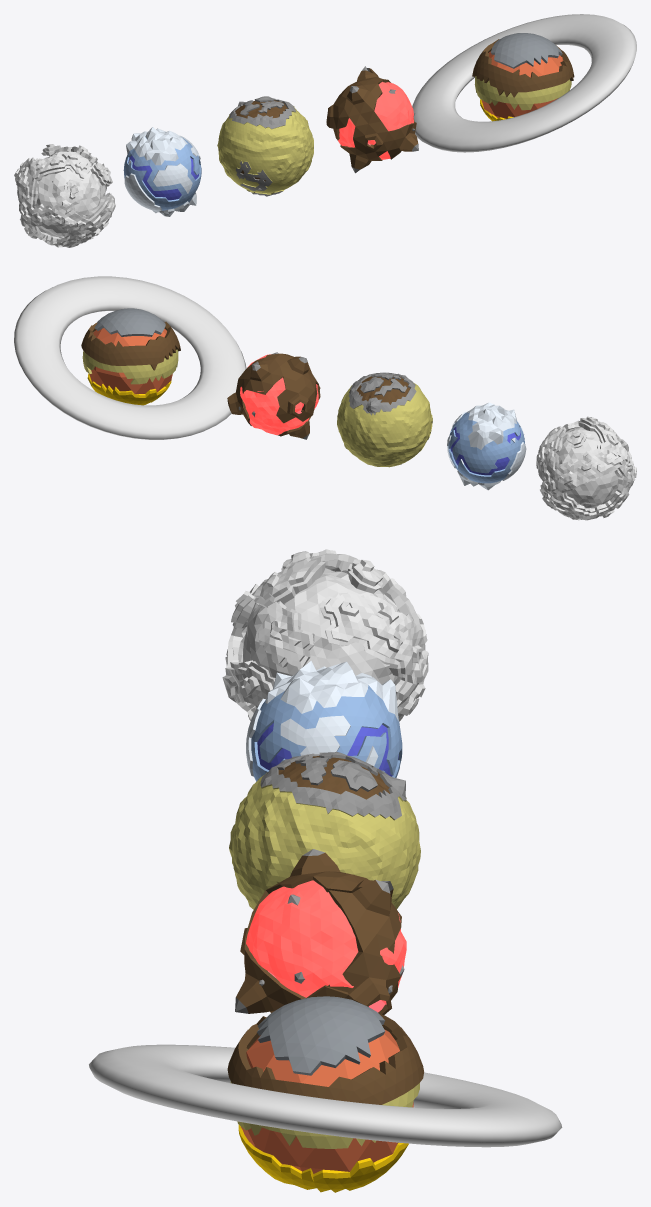
The model's file is planet_collection.glb.
The picture shows the model from 3 angles, top to bottom: view 1: azimuth 30°, elevation 25°; view 2: azimuth 150°, elevation 25°; view 3: azimuth 270°, elevation 25°; orthographic projection. The views are drawn at different scales.
Parts seen in each view (by area): view 1: Icosphere.021, P1_Water.001, Icosphere.020, P1_Water.003, Planet.02; view 2: Icosphere.021, P1_Water.001, Icosphere.020, P1_Water.003, Planet.02; view 3: Icosphere.021, P1_Water.001, Icosphere.020, P1_Water.003, Planet.02.
Boxes of the visible parts, <box> form: Icosphere.021: <box>412,14,636,152</box>; P1_Water.001: <box>14,144,115,247</box>; Icosphere.020: <box>217,96,313,196</box>; P1_Water.003: <box>326,66,418,173</box>; Planet.02: <box>123,127,201,216</box>; Icosphere.021: <box>14,276,246,439</box>; P1_Water.001: <box>536,416,636,520</box>; Icosphere.020: <box>337,372,432,467</box>; P1_Water.003: <box>227,352,320,439</box>; Planet.02: <box>447,402,526,490</box>; Icosphere.021: <box>89,996,562,1192</box>; P1_Water.001: <box>222,549,428,721</box>; Icosphere.020: <box>229,752,420,909</box>; P1_Water.003: <box>235,849,406,1014</box>; Planet.02: <box>246,661,402,781</box>.
Size of the model in its own units: 14.44 by 2.14 by 4.96.
